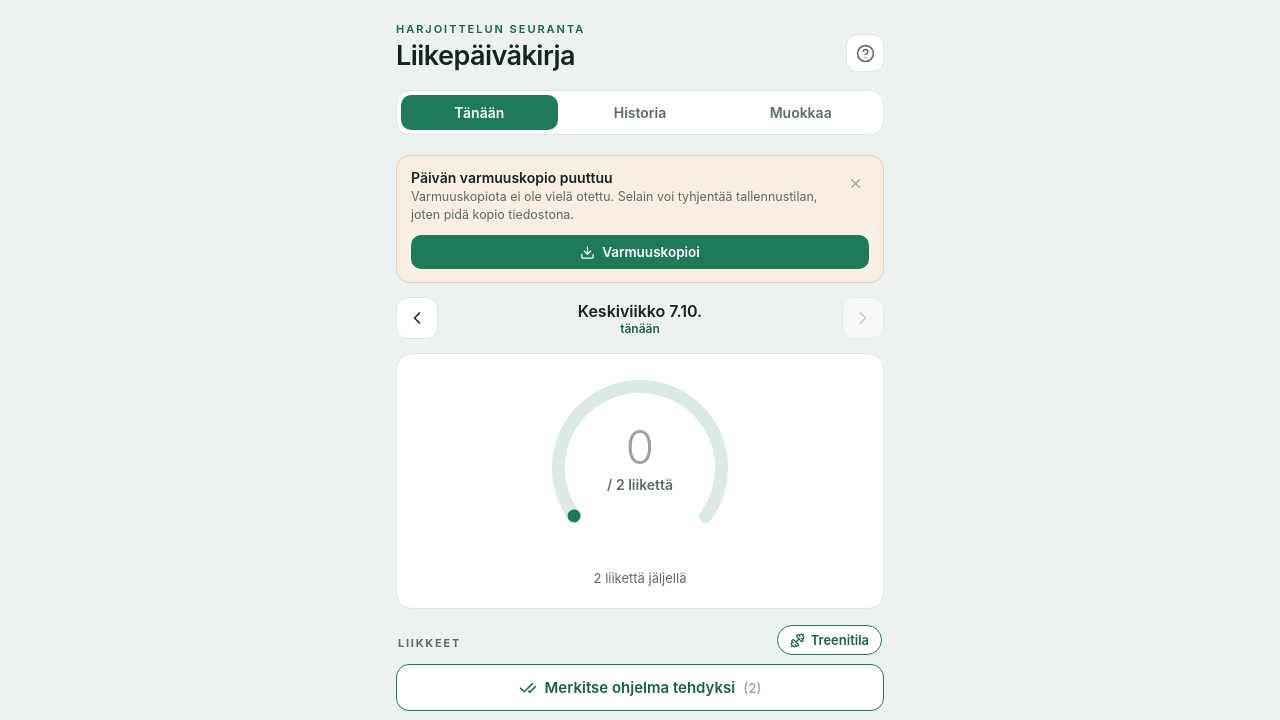
Test: treenitila › keeps the rest length as a device preference
Click the button "Treenitila": x=829, y=640 [777,625,882,655]
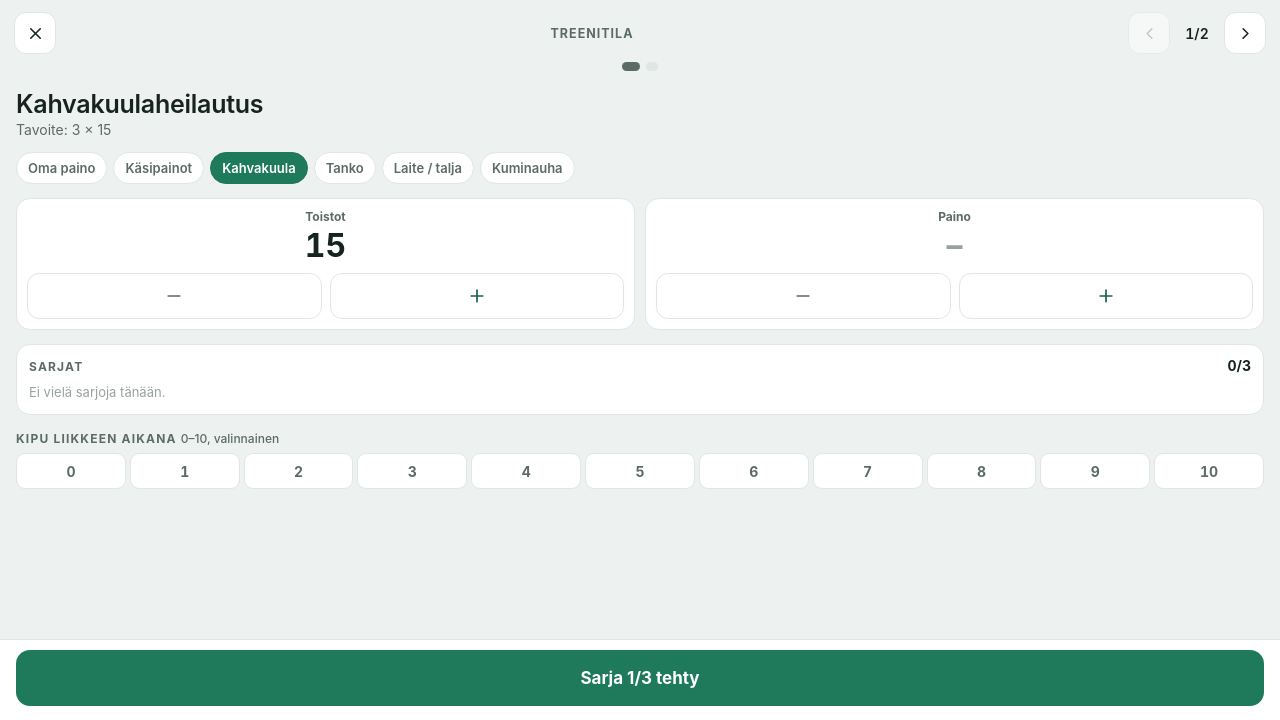
Click the button "Sarja 1/3 tehty": x=640, y=678 [16,650,1264,706]
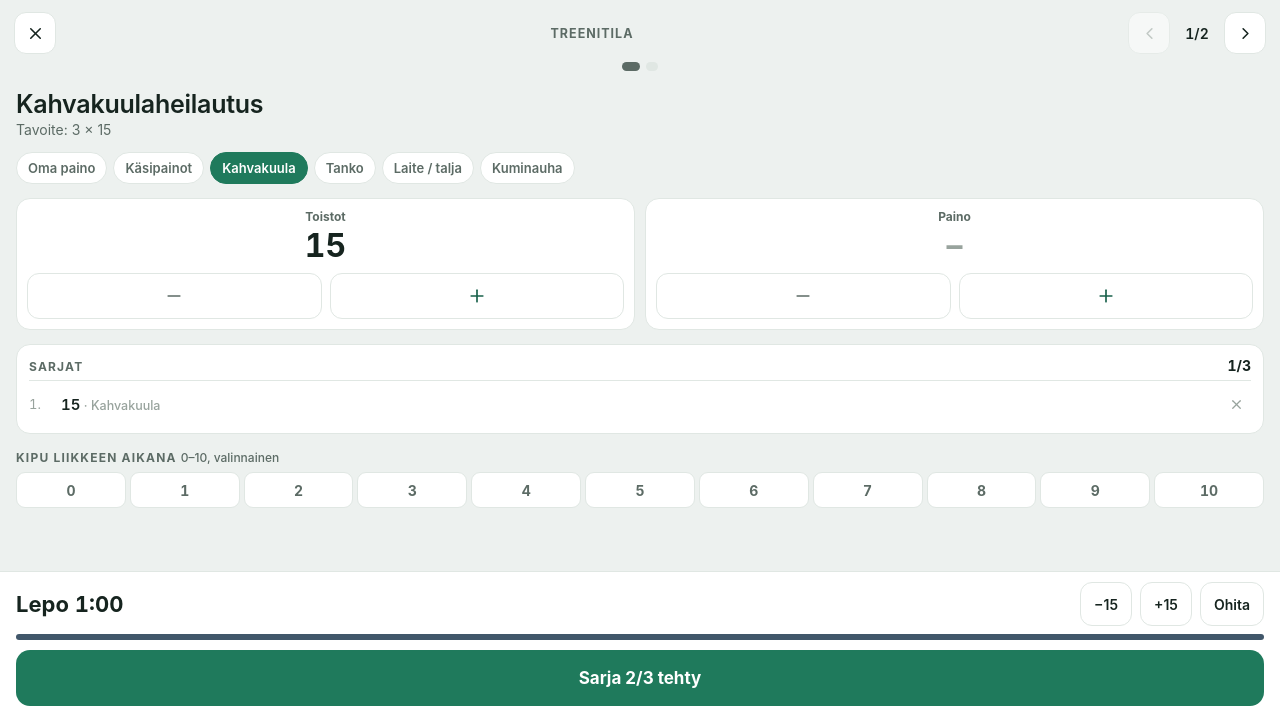
Expected: the text "Lepo 1:00" is shown, [16,591,123,617]
Click the button named "Lepo 15 s pidemmäksi": x=1166, y=604 [1140,582,1192,626]
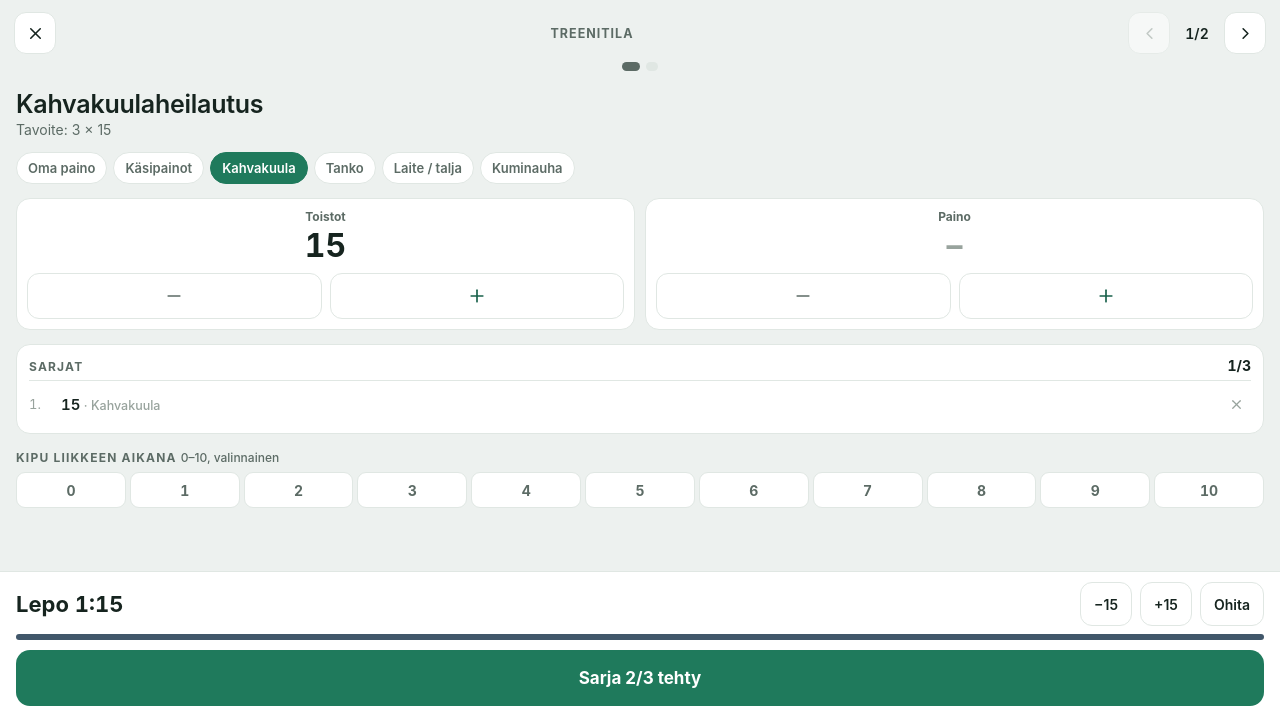
Expected: the text "Lepo 1:15" is shown, [16,591,123,617]
